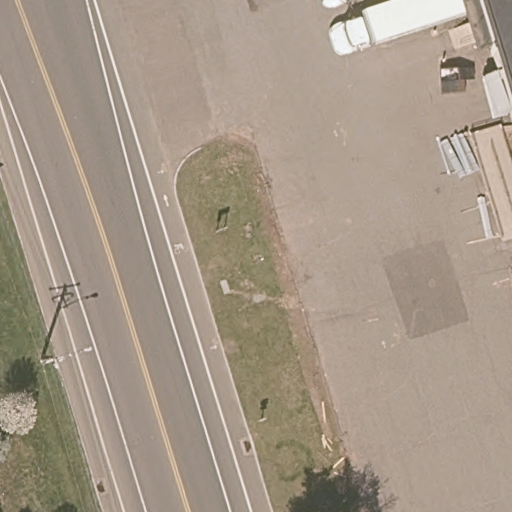DT: (40, 347, 93, 369)
